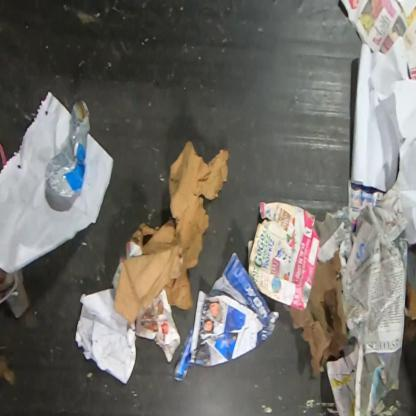cardboard: (113, 140, 230, 325), (173, 252, 280, 381), (247, 201, 322, 312)
metal: (44, 99, 90, 200)
